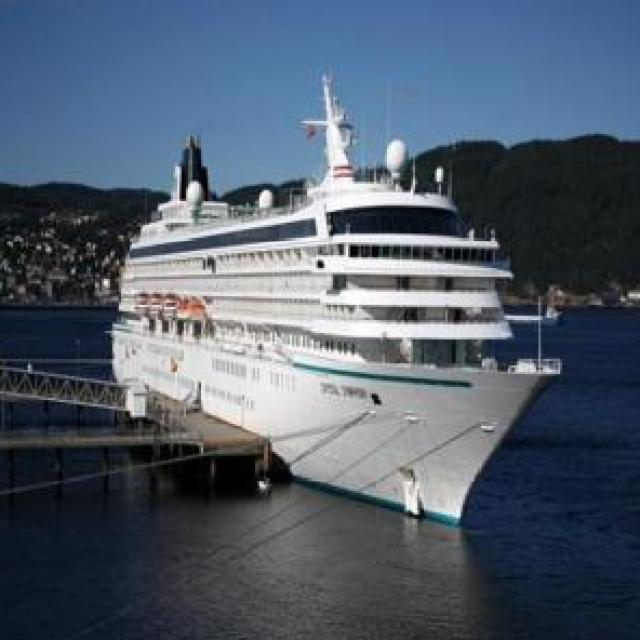passenger ship: (113, 106, 556, 526)
